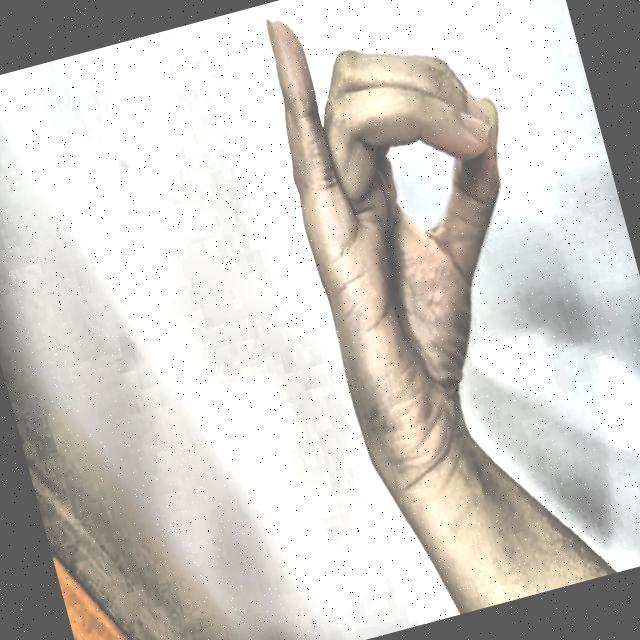Ou: (231, 0, 601, 517)
